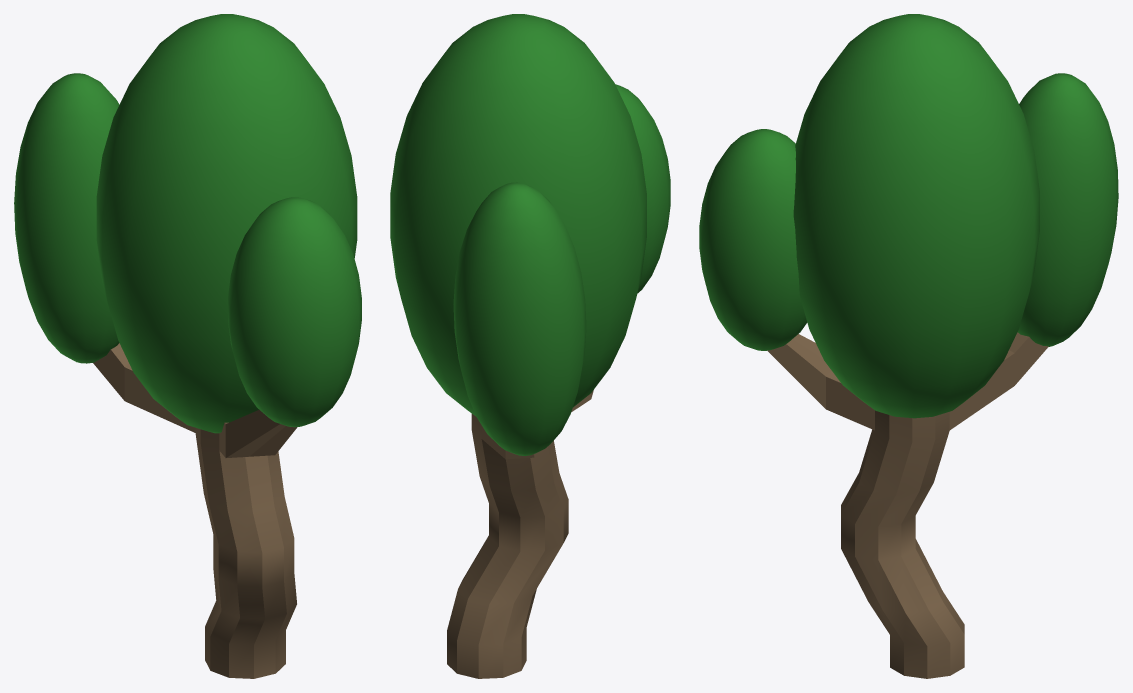
The model's file is tree2.fbx.
3 views of the same model, side by side, from view 1: azimuth 30°, elevation 25°; view 2: azimuth 150°, elevation 25°; view 3: azimuth 270°, elevation 25° (orthographic). The views are drawn at different scales.
Parts seen in each view (by area): view 1: tree2; view 2: tree2; view 3: tree2.
Boxes of the visible parts, bbox=[...] form: tree2: bbox=[14, 14, 361, 678]; tree2: bbox=[390, 14, 670, 678]; tree2: bbox=[699, 14, 1118, 678].
Bounding box in the file's own units: 6.92 × 17.69 × 10.67.
